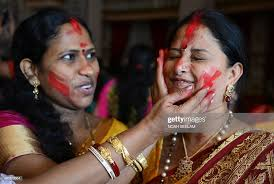indian_female: (29, 1, 112, 120)
